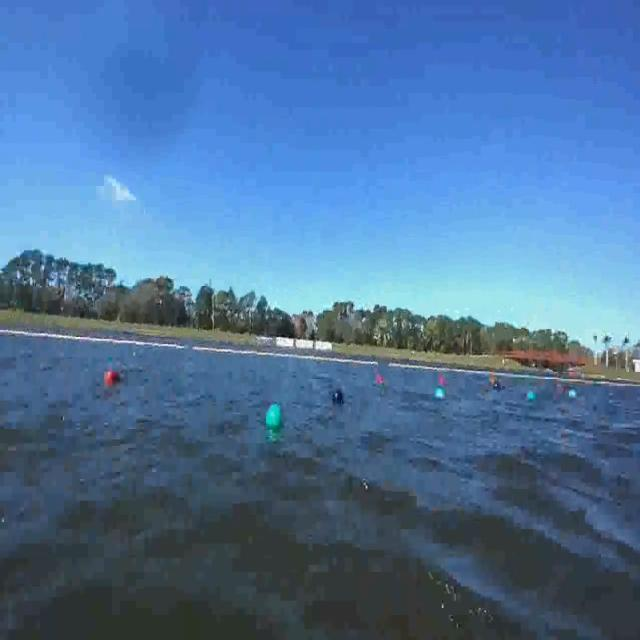black-buoy: (336, 389, 345, 405)
green-buoy: (268, 406, 283, 432), (526, 386, 538, 402), (434, 384, 445, 397)
red-buoy: (106, 372, 120, 388)
